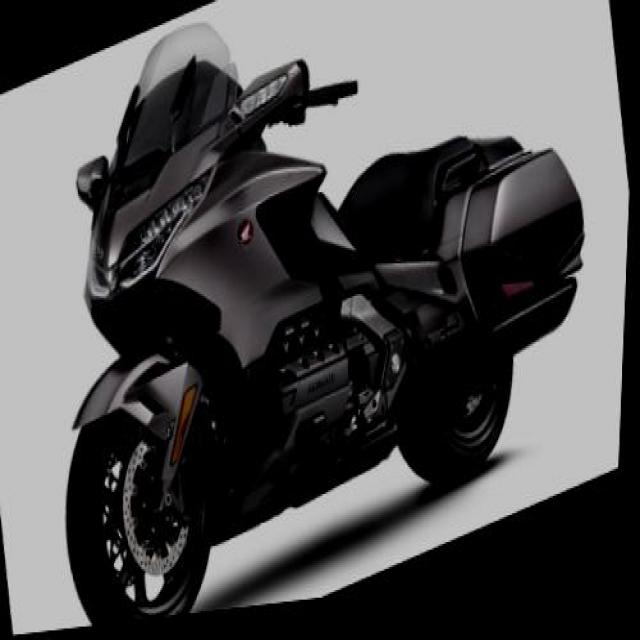Gold Wing: (2, 0, 630, 636)
